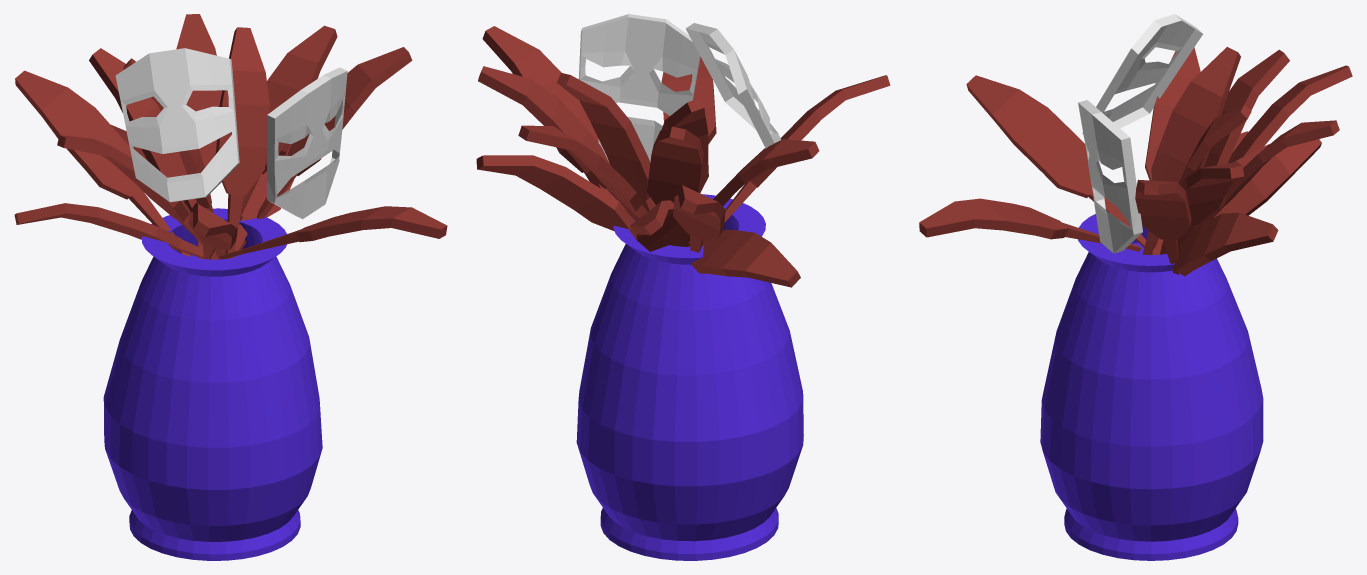
Rendered from vase.fbx.
3 views of the same model, side by side, from view 1: azimuth 30°, elevation 25°; view 2: azimuth 150°, elevation 25°; view 3: azimuth 270°, elevation 25° (orthographic). The views are drawn at different scales.
Visible parts, largest first — view 1: vase, featjers, masks; view 2: vase, featjers, masks; view 3: vase, featjers, masks.
Part boxes in pixels (box(x1,y1,x2,y2)): vase: box(103, 208, 322, 560); featjers: box(14, 14, 447, 259); masks: box(115, 48, 347, 219); vase: box(576, 194, 803, 560); featjers: box(476, 26, 890, 287); masks: box(578, 14, 781, 161); vase: box(1040, 214, 1263, 560); featjers: box(919, 47, 1352, 276); masks: box(1078, 14, 1202, 253).
Size of the model in its own units: 417 by 554 by 444.
